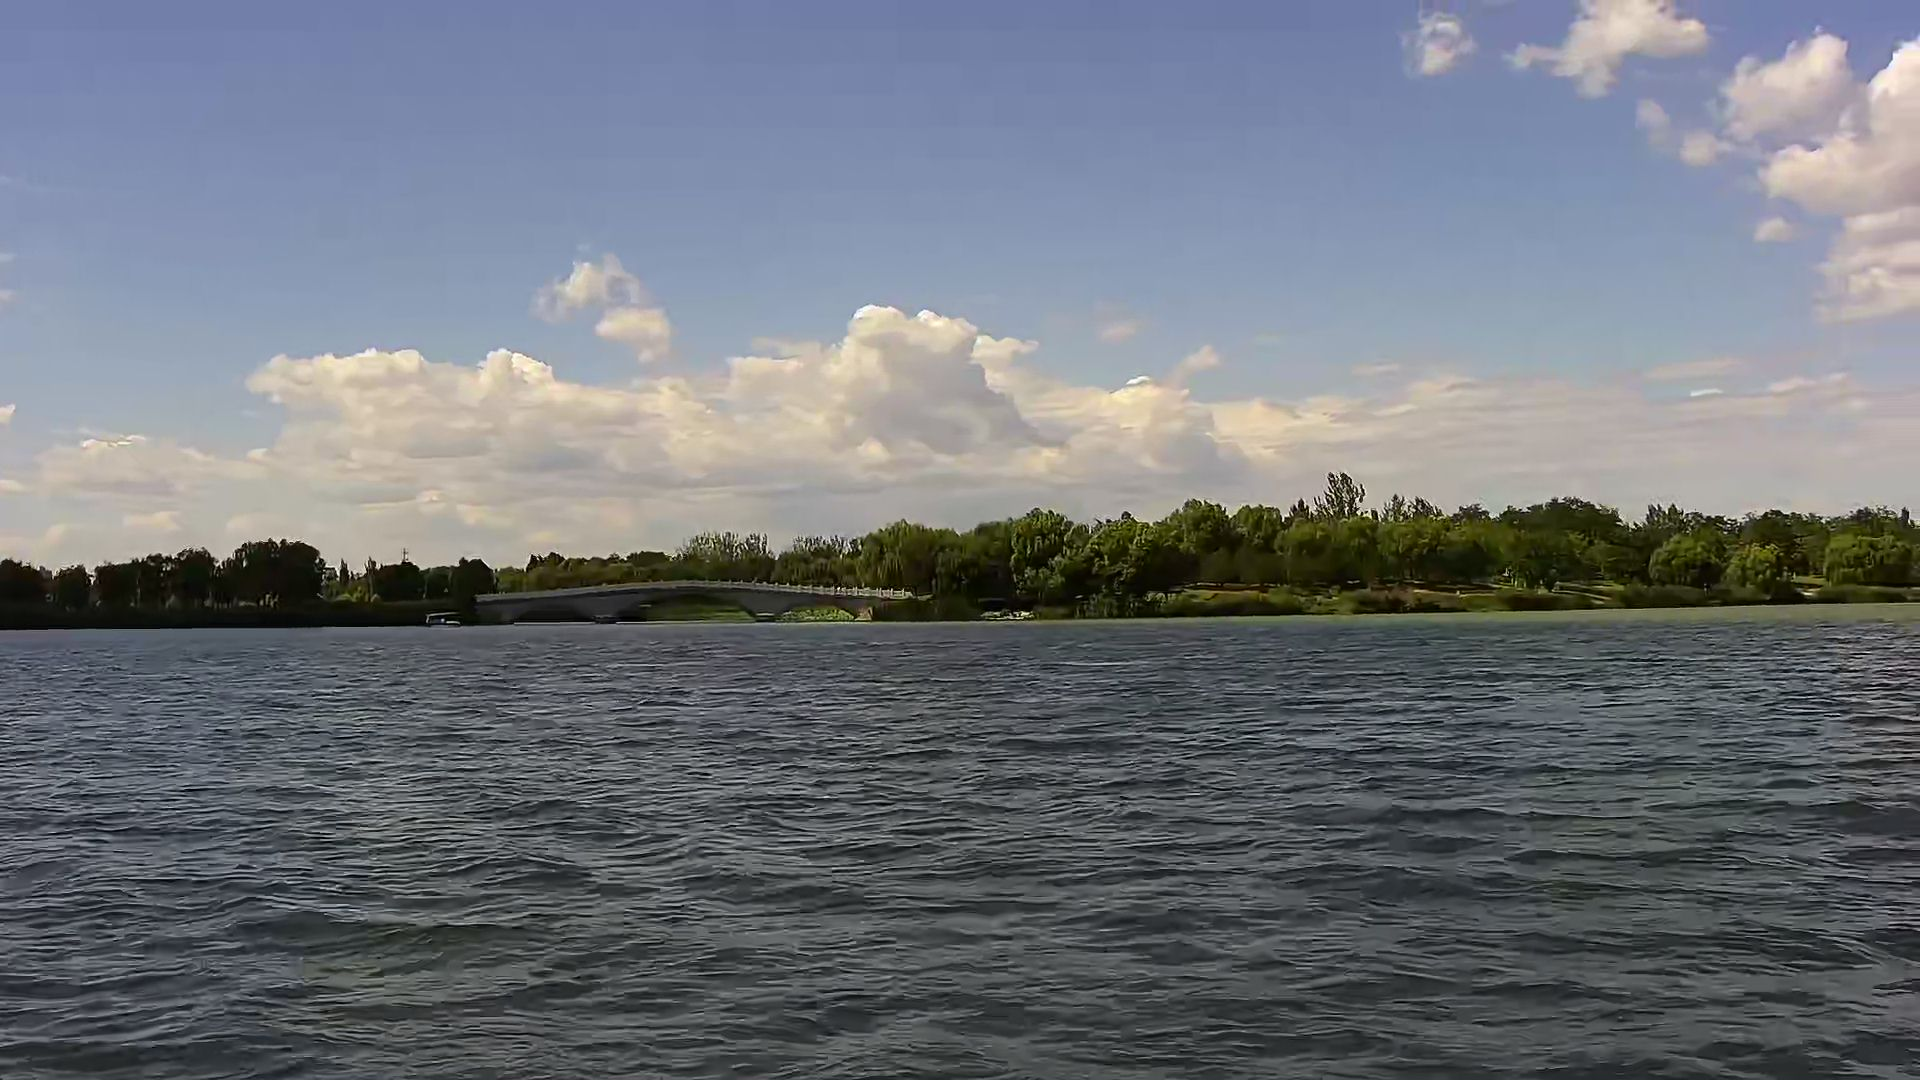boat: (419, 607, 465, 633)
bridge: (477, 582, 919, 636)
